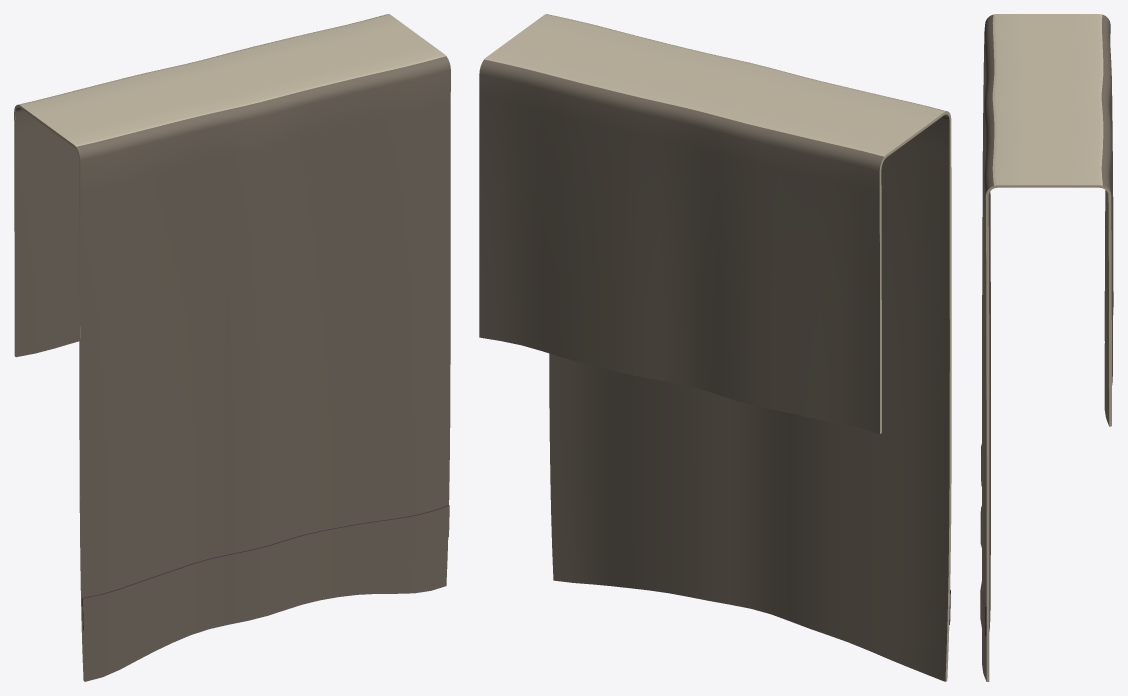
Rendered from towel-draped-white-07e83480e06a.glb.
3 views of the same model, side by side, from view 1: azimuth 30°, elevation 25°; view 2: azimuth 150°, elevation 25°; view 3: azimuth 270°, elevation 25° (orthographic). The views are drawn at different scales.
Visible parts, largest first — view 1: cover-cloth, cloth-cream; view 2: cover-cloth, cloth-cream; view 3: cloth-cream, cover-cloth.
Part boxes in pixels (left/top/right/bottom): cover-cloth: left=15, top=14, right=450, bottom=681; cloth-cream: left=14, top=14, right=445, bottom=681; cover-cloth: left=479, top=14, right=949, bottom=681; cloth-cream: left=484, top=14, right=951, bottom=681; cloth-cream: left=985, top=14, right=1111, bottom=681; cover-cloth: left=980, top=14, right=1113, bottom=681.
Size of the model in its own units: 0.36 by 0.494 by 0.118.
